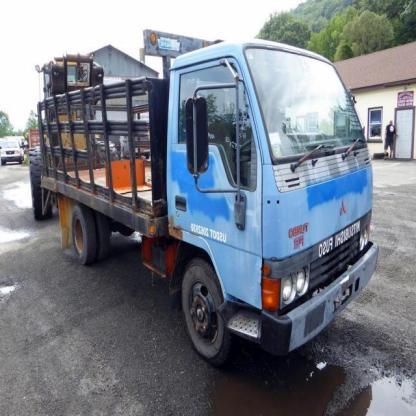truck: (41, 35, 382, 364)
